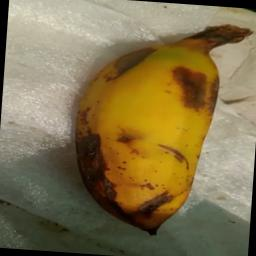Banana Overripe: (64, 10, 256, 239)
